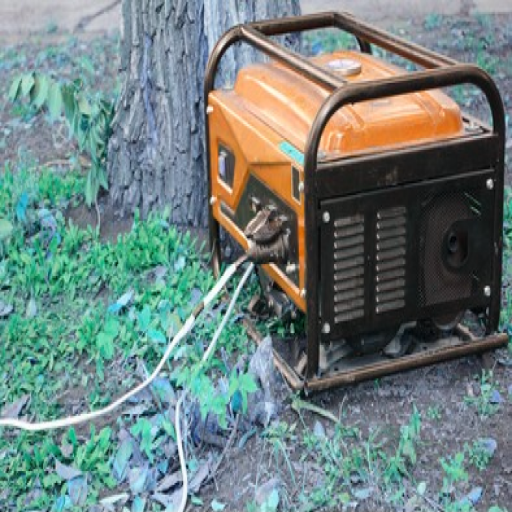portable_generator: (203, 10, 507, 393)
